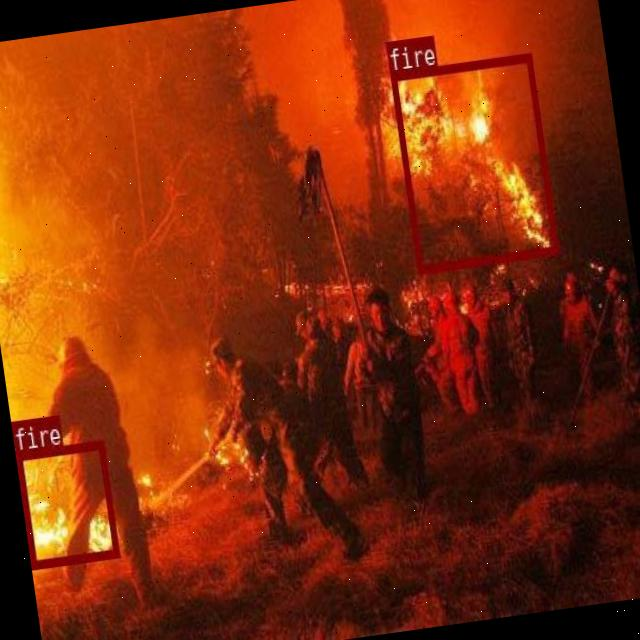fire: (389, 52, 558, 271), (15, 438, 119, 568)
